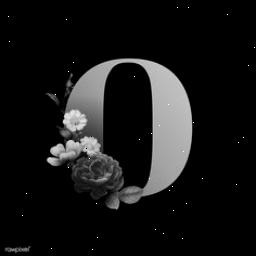o: (50, 47, 200, 223)
